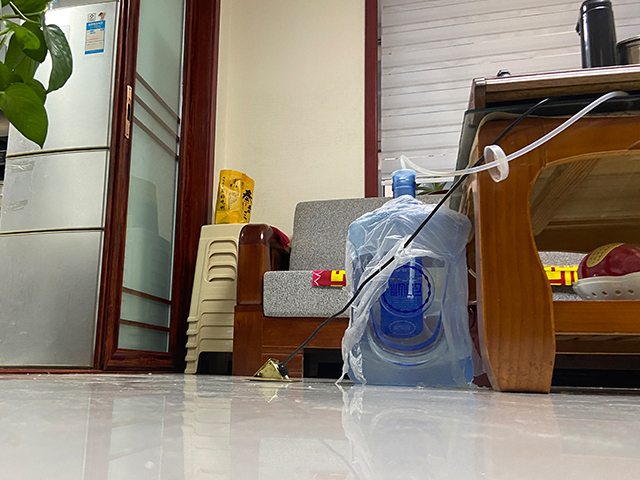sofa: (231, 192, 453, 379)
stool: (180, 222, 250, 376)
table: (446, 61, 640, 395)
wire: (244, 96, 554, 383)
